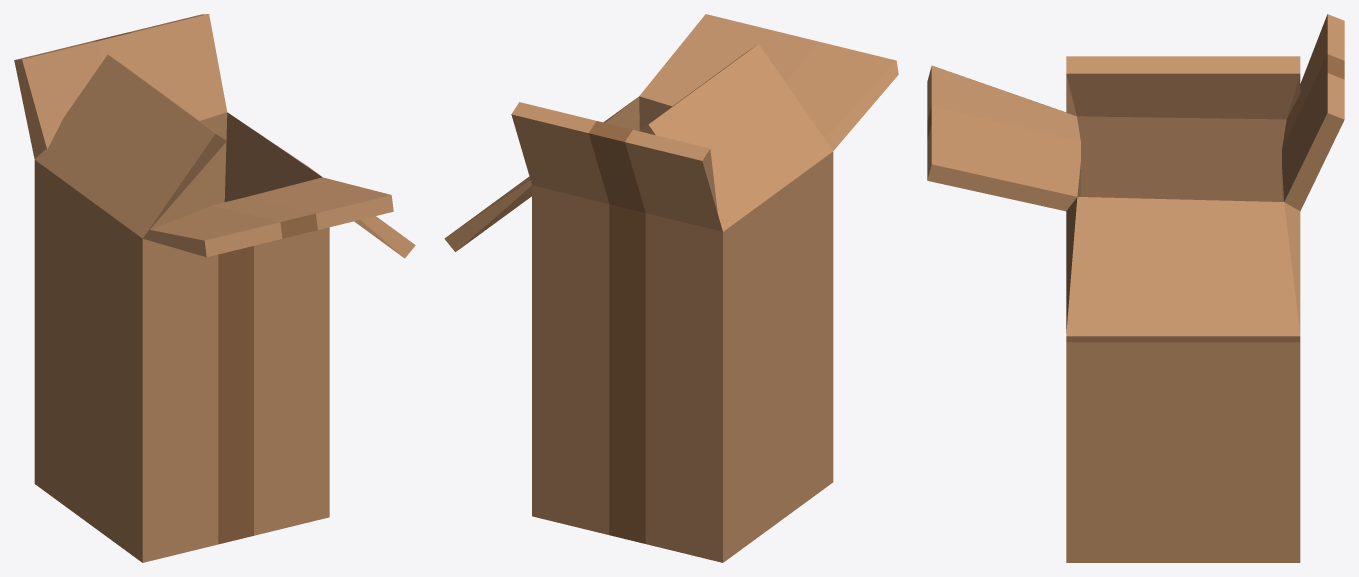
Rendered from BoxOpen3.fbx.
3 views of the same model, side by side, from view 1: azimuth 30°, elevation 25°; view 2: azimuth 150°, elevation 25°; view 3: azimuth 270°, elevation 25° (orthographic). The views are drawn at different scales.
Parts seen in each view (by area): view 1: BoxOpen3; view 2: BoxOpen3; view 3: BoxOpen3.
Boxes of the visible parts, x1,y1,x2,y2 form: BoxOpen3: (14,14,415,562); BoxOpen3: (444,14,898,562); BoxOpen3: (927,14,1344,562).
Size of the model in its own units: 92.18 by 134 by 112.
Materials: 1 (1 with a texture image).
